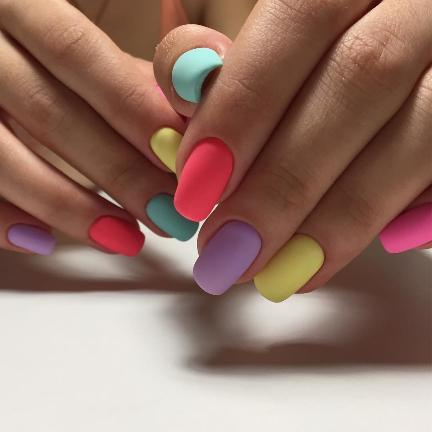Nail: (194, 221, 262, 294), (175, 138, 234, 222), (254, 235, 324, 302), (171, 47, 223, 103), (379, 203, 432, 253), (146, 193, 199, 241), (90, 216, 144, 256), (8, 223, 56, 255), (151, 127, 182, 172)
